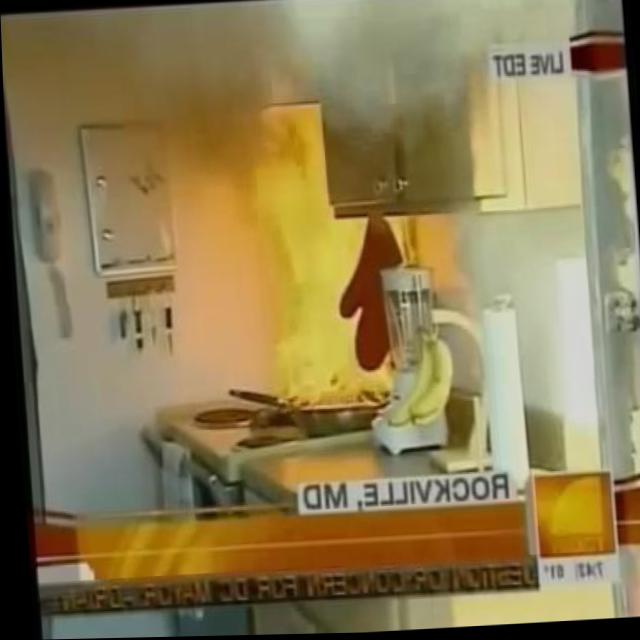fire: (242, 100, 418, 410)
